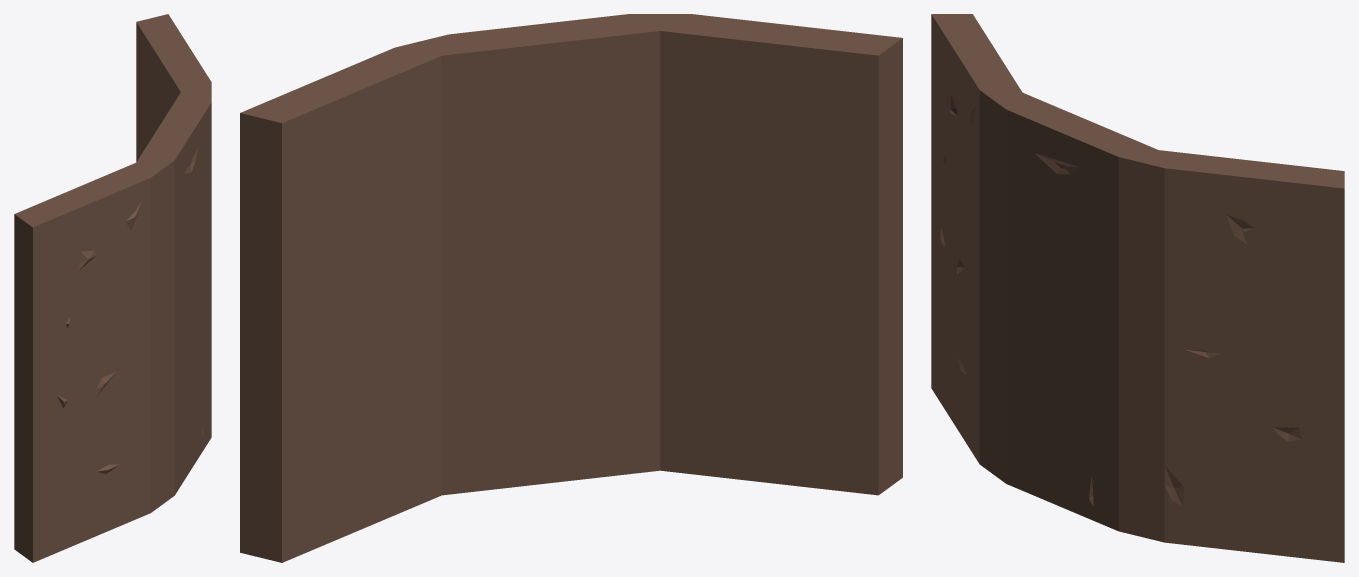
Rendered from victorian_wall_curved_1.fbx.
The picture shows the model from 3 angles, left to right: view 1: azimuth 30°, elevation 25°; view 2: azimuth 150°, elevation 25°; view 3: azimuth 270°, elevation 25°; orthographic projection. The views are drawn at different scales.
Parts seen in each view (by area): view 1: Cylinder.004; view 2: Cylinder.004; view 3: Cylinder.004.
Part boxes in pixels (left/top/right/bottom): Cylinder.004: left=14, top=14, right=211, bottom=562; Cylinder.004: left=240, top=14, right=902, bottom=562; Cylinder.004: left=931, top=14, right=1344, bottom=562.
Size of the model in its own units: 300 by 300 by 300.
